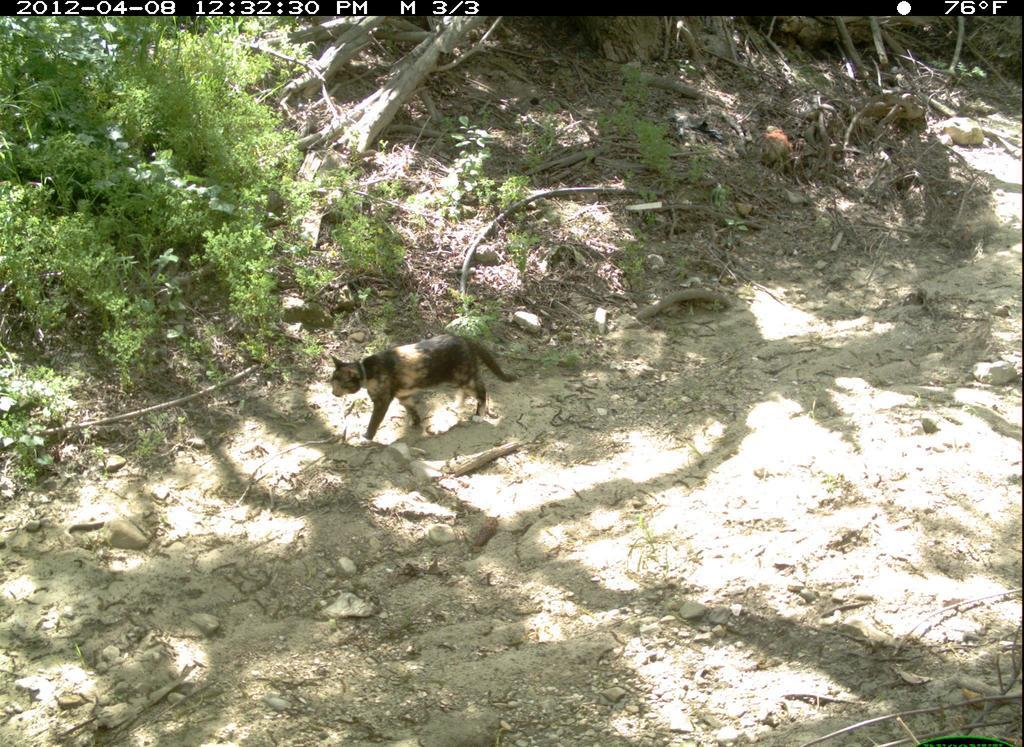cat: (315, 310, 528, 456)
